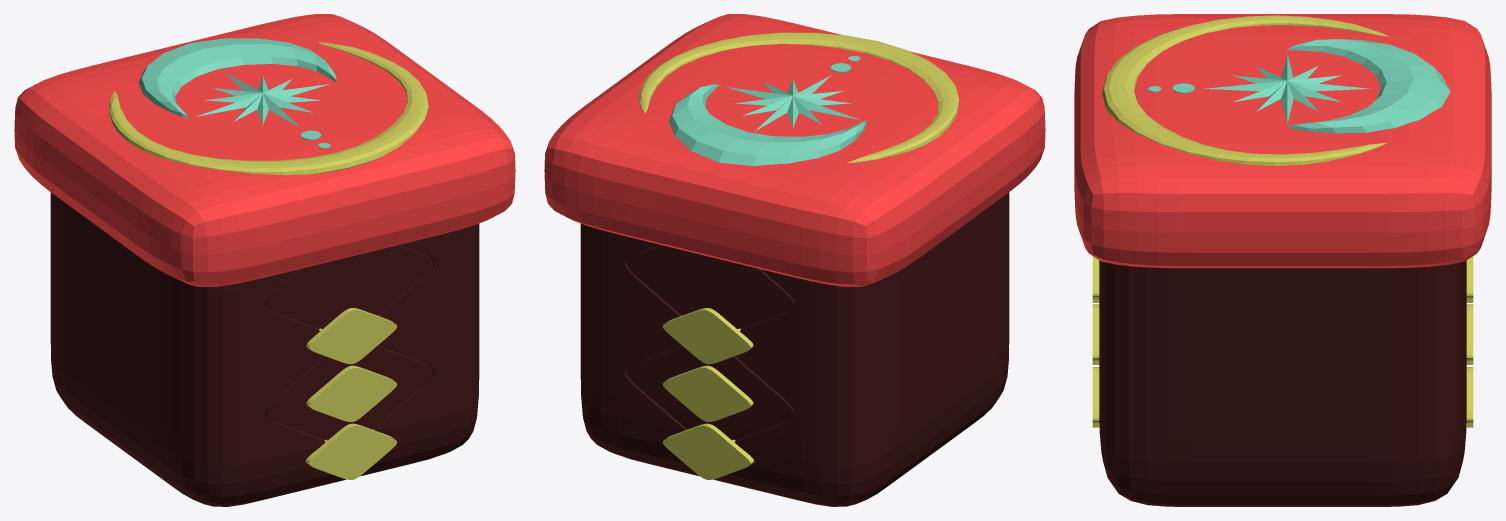
Rendered from RunAndGun_baked.fbx.
3 views of the same model, side by side, from view 1: azimuth 30°, elevation 25°; view 2: azimuth 150°, elevation 25°; view 3: azimuth 270°, elevation 25° (orthographic). The views are drawn at different scales.
Parts seen in each view (by area): view 1: block5_soil, block5_grass, block5_soil_art, block5_moon2, block5_moon1, block5_star; view 2: block5_soil, block5_grass, block5_soil_art, block5_moon2, block5_moon1, block5_star; view 3: block5_soil, block5_grass, block5_moon2, block5_moon1, block5_star, block5_soil_art.
Boxes of the visible parts, bbox=[...] form: block5_soil: bbox=[50, 192, 479, 506]; block5_grass: bbox=[14, 14, 515, 286]; block5_soil_art: bbox=[305, 308, 397, 479]; block5_moon2: bbox=[109, 42, 428, 175]; block5_moon1: bbox=[138, 38, 336, 118]; block5_star: bbox=[196, 72, 329, 128]; block5_soil: bbox=[580, 192, 1009, 506]; block5_grass: bbox=[544, 14, 1045, 286]; block5_soil_art: bbox=[662, 308, 754, 479]; block5_moon2: bbox=[639, 32, 959, 162]; block5_moon1: bbox=[669, 84, 866, 166]; block5_star: bbox=[726, 75, 859, 131]; block5_soil: bbox=[1099, 260, 1466, 506]; block5_grass: bbox=[1074, 14, 1491, 268]; block5_moon2: bbox=[1102, 15, 1388, 166]; block5_moon1: bbox=[1288, 39, 1450, 133]; block5_star: bbox=[1203, 53, 1371, 123]; block5_soil_art: bbox=[1092, 256, 1473, 427].
Size of the model in its own units: 237 by 221 by 227.
